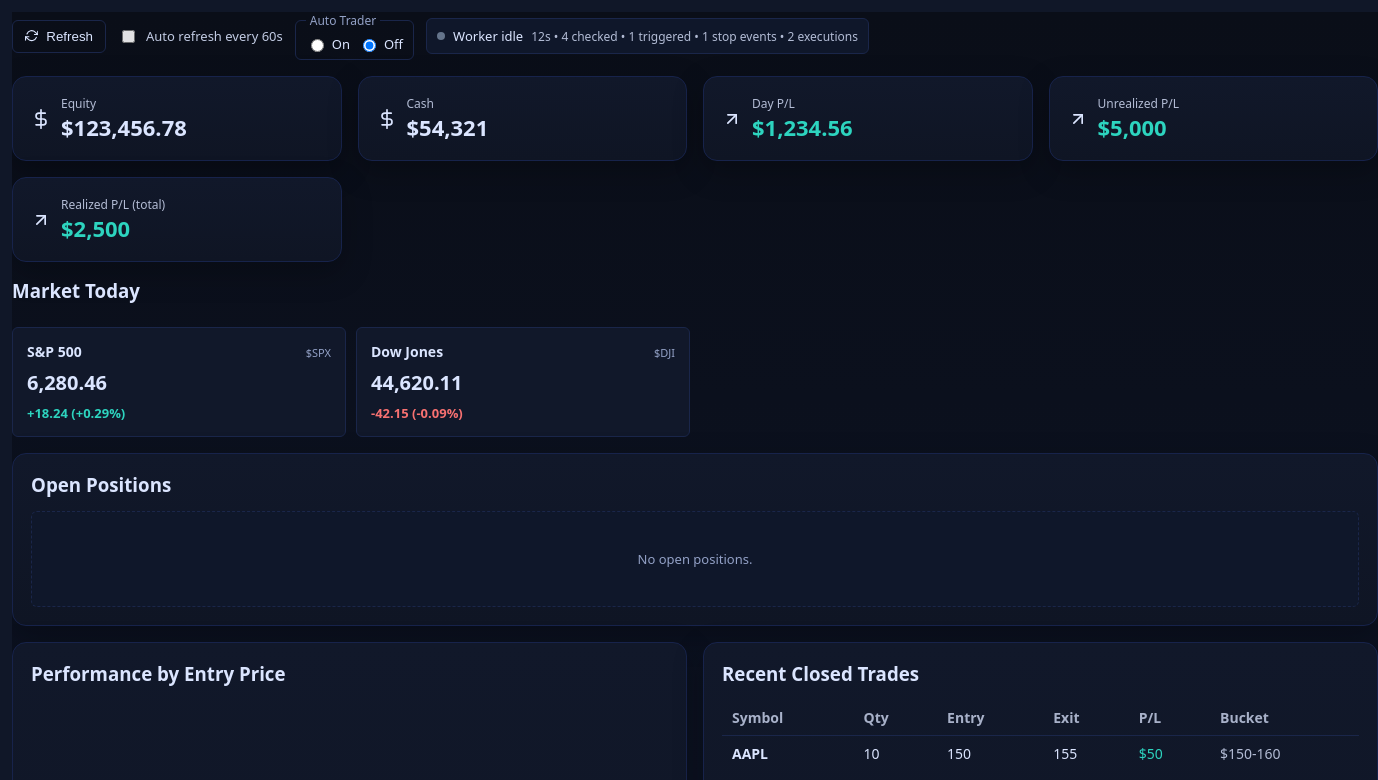
Test case: Dashboard › loads and updates the auto trader radio control
This screenshot has width=1378, height=780.
Expected: the radio button labelled "Off" is checked, [363, 39, 376, 52]
Click the radio button labelled "On".
click(317, 46)  # box [311, 39, 324, 52]
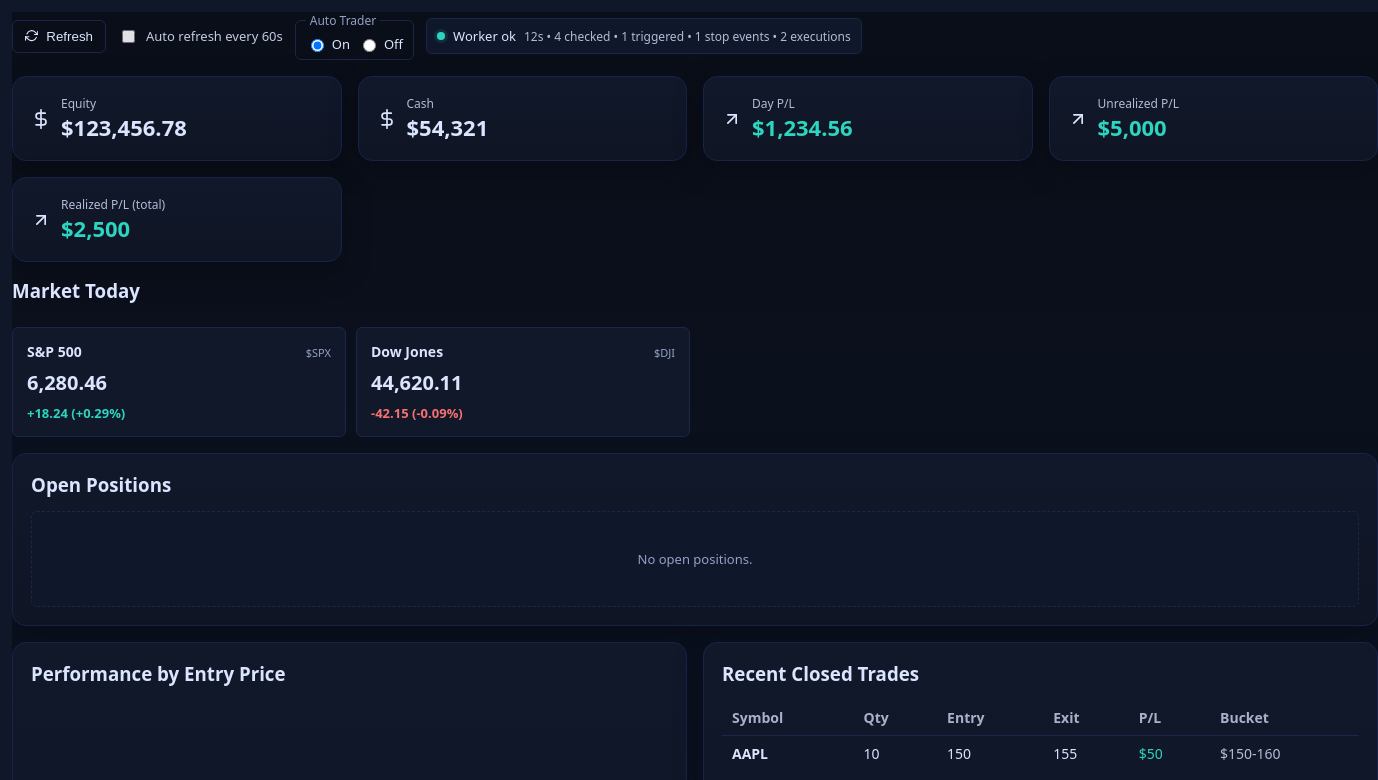
Expected: the text "12s • 4 checked • 1 triggered • 1 stop events • 2 executions" is shown, [524, 28, 851, 44]
Now the radio button labelled "On" is checked, box [311, 39, 324, 52]
Now the text "Worker ok" is shown, box [453, 27, 516, 45]
